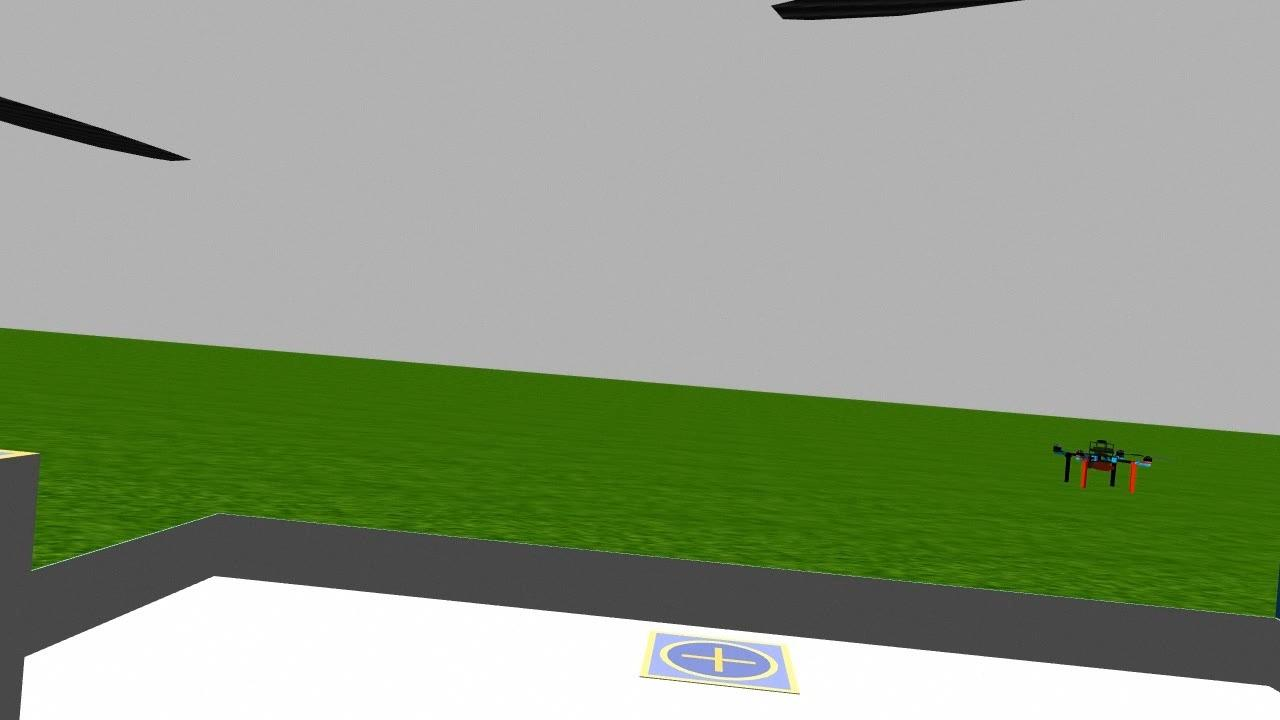UAV: (1049, 428, 1157, 500)
